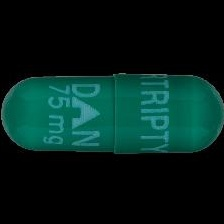54868-2482: (0, 0, 224, 224)
